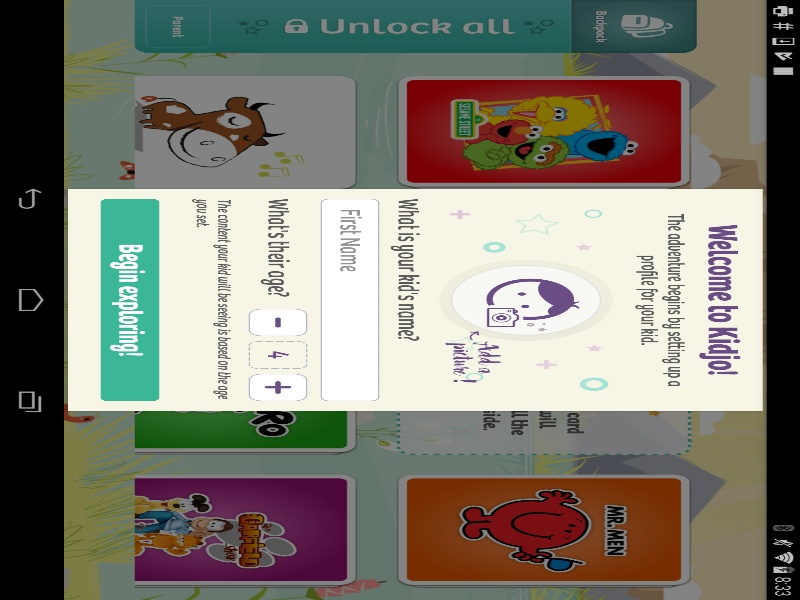Button: (648, 290, 744, 335), (658, 230, 717, 258)
